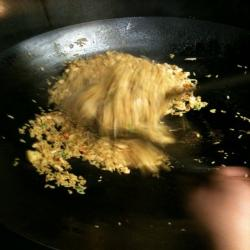omelette: (22, 51, 191, 182)
